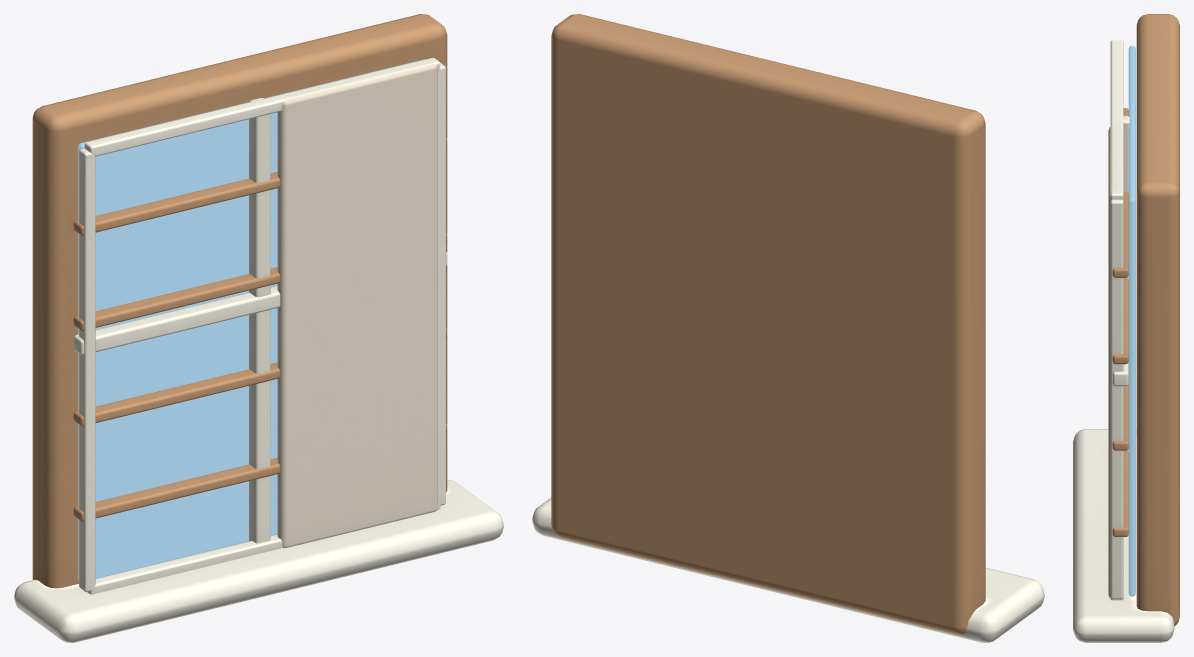
The model's file is windowJapaneseR.glb.
3 views of the same model, side by side, from view 1: azimuth 30°, elevation 25°; view 2: azimuth 150°, elevation 25°; view 3: azimuth 270°, elevation 25° (orthographic). The views are drawn at different scales.
Visible parts, largest first — view 1: Sliding panel, Window glass, Window frame, Sill, Window muntin, Opening sash upright, Opening sash rail.001, Window crossbar, Opening sash upright.001, Shoji lattice.001, Shoji lattice.003, Shoji lattice (+2 smaller); view 2: Window frame, Sill; view 3: Window frame, Sill, Opening sash upright.001, Window glass, Opening sash rail.001, Sliding panel, Shoji lattice.003, Shoji lattice.002, Shoji lattice, Shoji lattice.001, Window muntin, Window crossbar.
Part boxes in pixels (x1,y1,x2,y2): Sliding panel: [277, 64, 437, 547]; Window glass: [78, 59, 425, 580]; Window frame: [32, 14, 447, 588]; Sill: [14, 480, 503, 642]; Window muntin: [249, 98, 270, 543]; Opening sash upright: [79, 148, 95, 591]; Opening sash rail.001: [84, 57, 440, 156]; Window crossbar: [74, 252, 447, 355]; Opening sash upright.001: [437, 63, 445, 505]; Shoji lattice.001: [73, 328, 447, 426]; Shoji lattice.003: [73, 137, 447, 235]; Shoji lattice: [73, 423, 447, 521]; Window frame: [551, 14, 985, 634]; Sill: [532, 497, 1044, 642]; Window frame: [1136, 14, 1179, 626]; Sill: [1073, 429, 1174, 642]; Opening sash upright.001: [1110, 199, 1123, 599]; Window glass: [1128, 45, 1135, 596]; Opening sash rail.001: [1110, 40, 1123, 200]; Sliding panel: [1108, 126, 1114, 598]; Shoji lattice.003: [1112, 108, 1128, 277]; Shoji lattice.002: [1112, 278, 1128, 364]; Shoji lattice: [1112, 451, 1128, 536]; Shoji lattice.001: [1112, 384, 1128, 450]; Window muntin: [1123, 116, 1129, 452]; Window crossbar: [1112, 362, 1128, 386].
Size of the model in its own units: 1.61 by 1.72 by 0.37.
